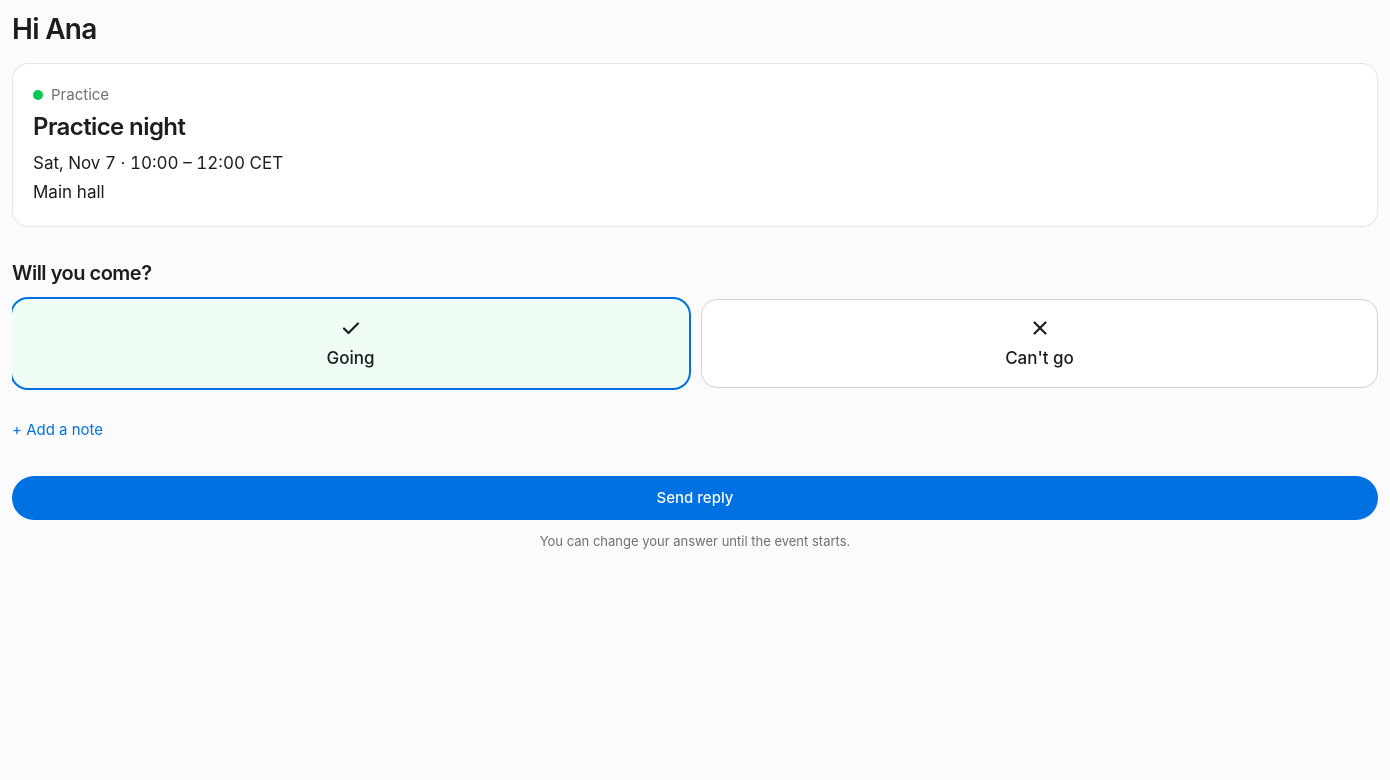
MemberAttendanceView › after sending › confirms a Going reply by name in place of the form
Click the button "Send reply": click(695, 498) [12,476,1378,520]
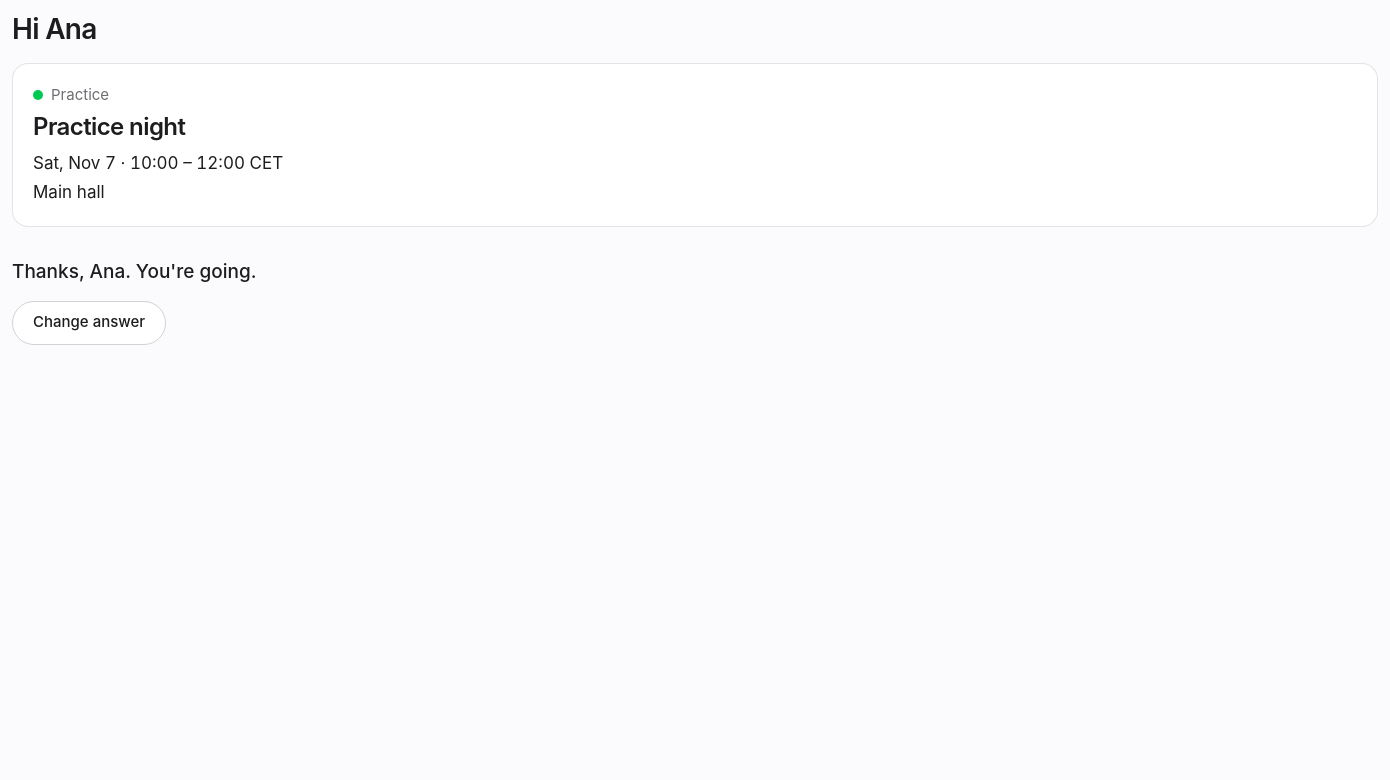
expect the message "Thanks, Ana. You're going." is shown: met, box [12,260,256,282]
